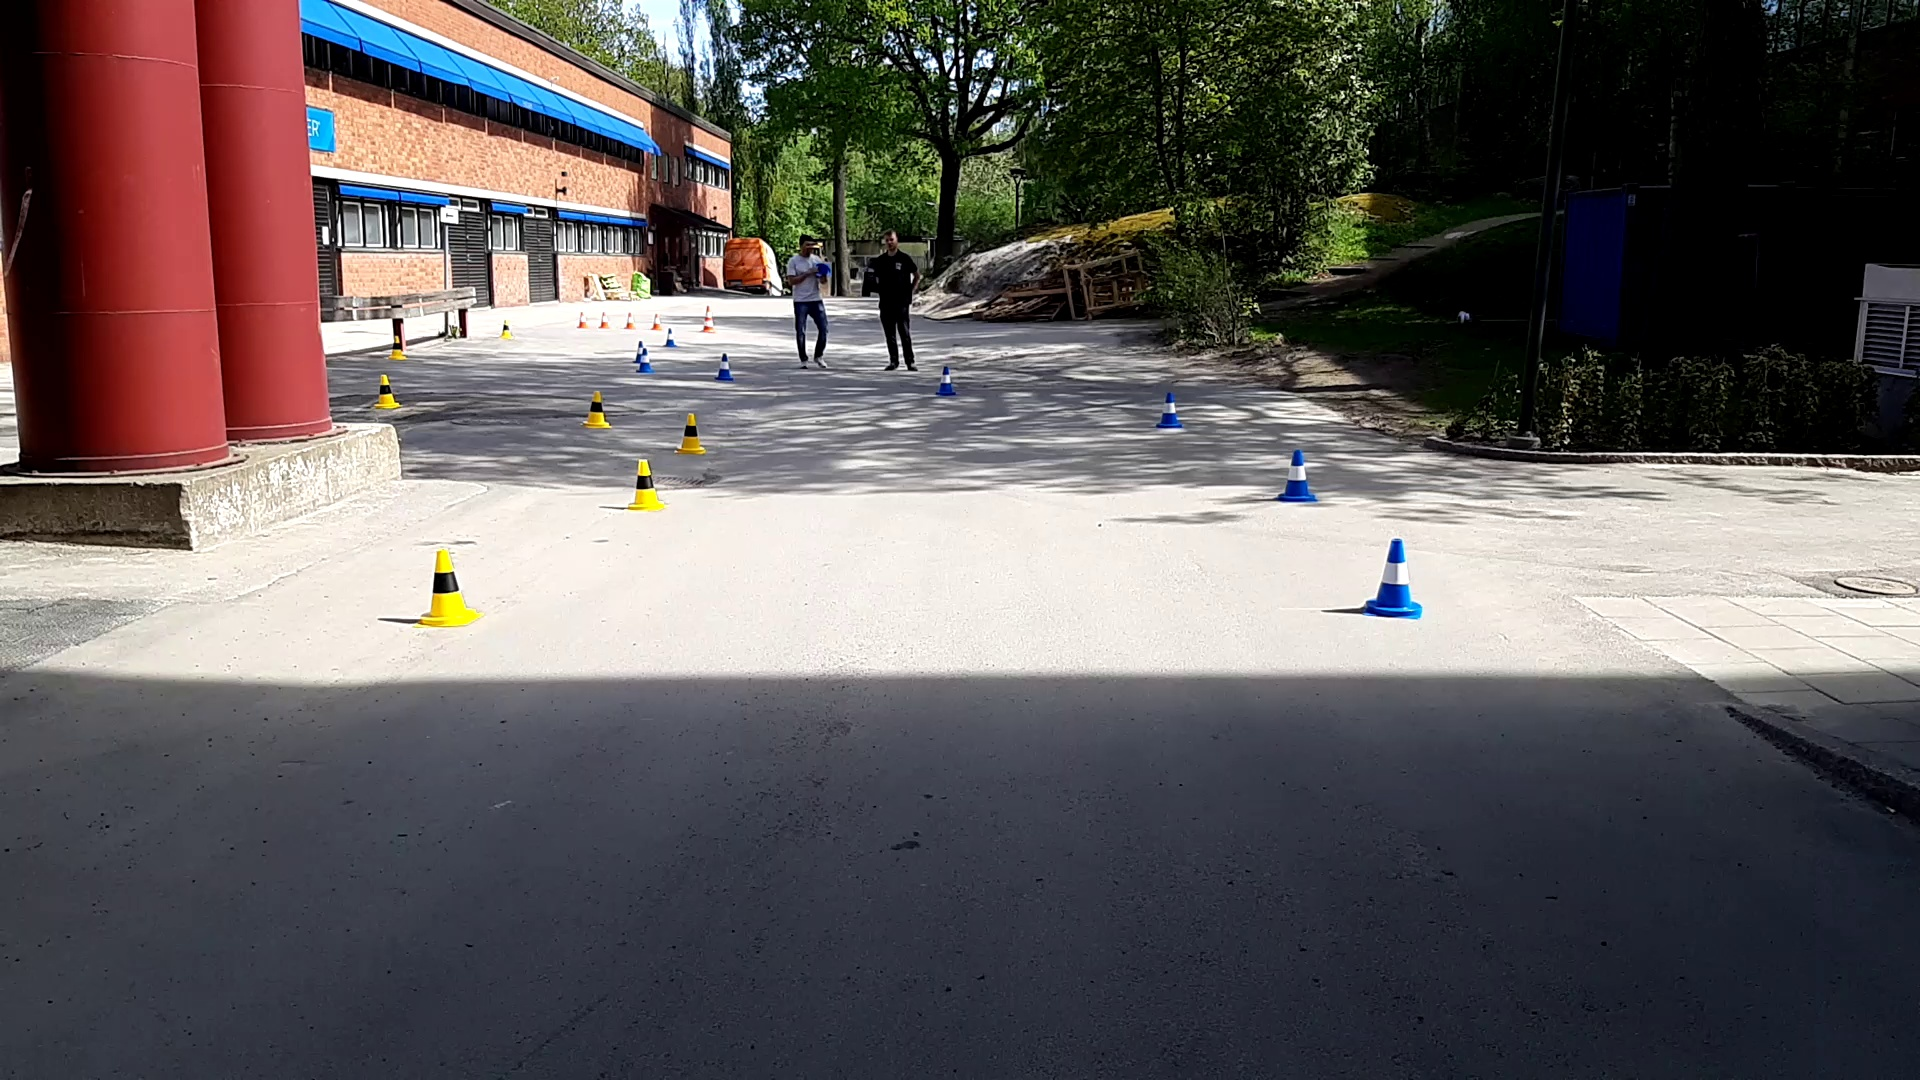Cone: (411, 547, 485, 630), (1366, 535, 1425, 620), (1273, 448, 1316, 506), (628, 455, 670, 513), (579, 386, 615, 436), (673, 411, 712, 455), (372, 367, 404, 419), (934, 363, 967, 397), (1156, 390, 1183, 429)
